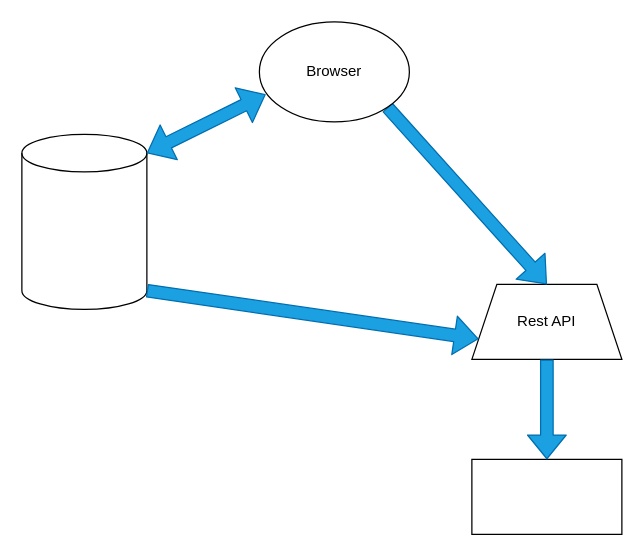
The diagram is 644 pixels wide and 556 high, and some of its shapes have lost their labels. The shapes that lost their labels are listed below. From the top down, each one's centre as x and y in pixels, then its label:
At (x=84, y=221): "Web Socket server".
At (x=546, y=496): "PostgreSQL DB".
